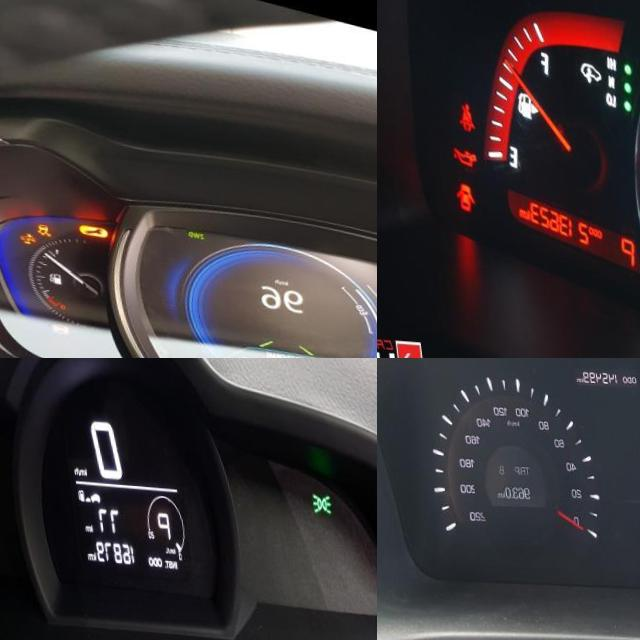Doors: (447, 178, 467, 208)
SideLamp: (303, 483, 326, 506)
